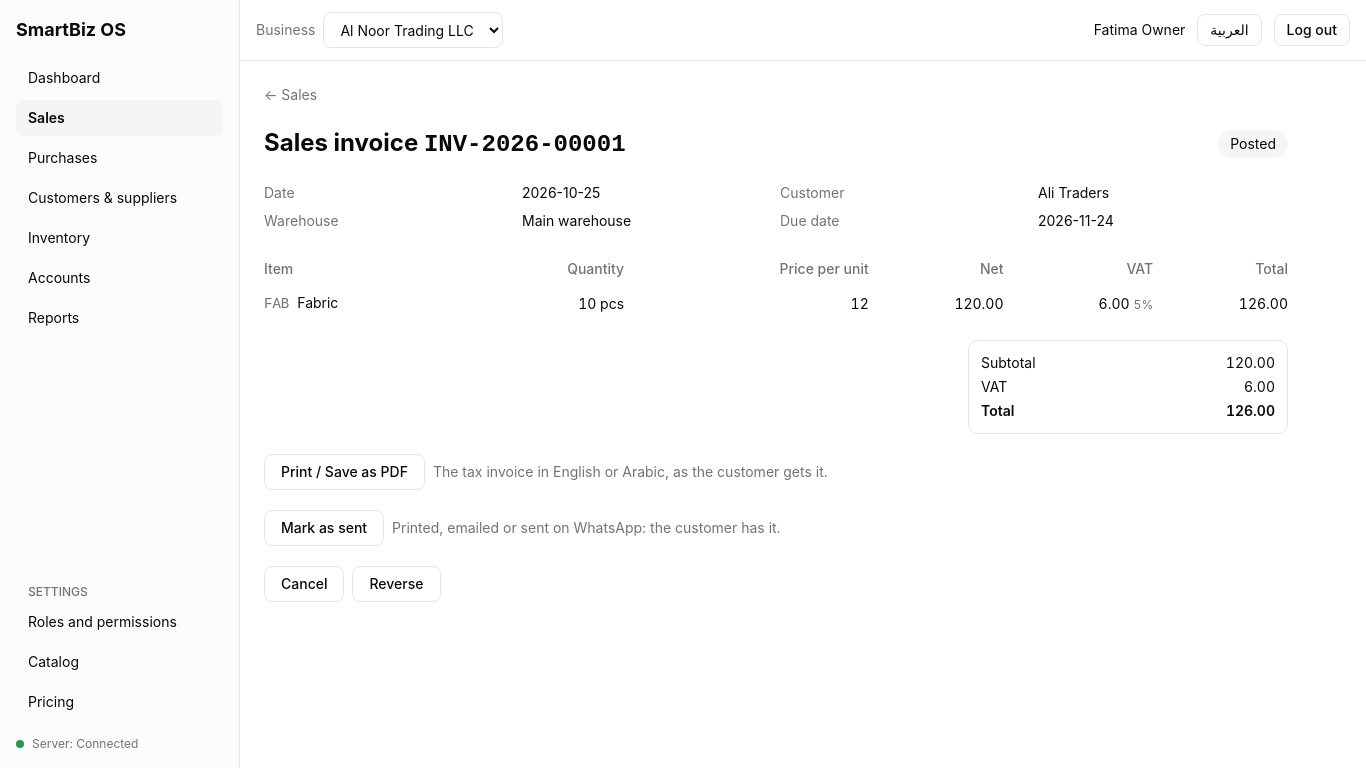
Test case: Sales screens › marks a posted invoice as sent
Click the button "Mark as sent": [324, 528] box left=264, top=510, right=384, bottom=546
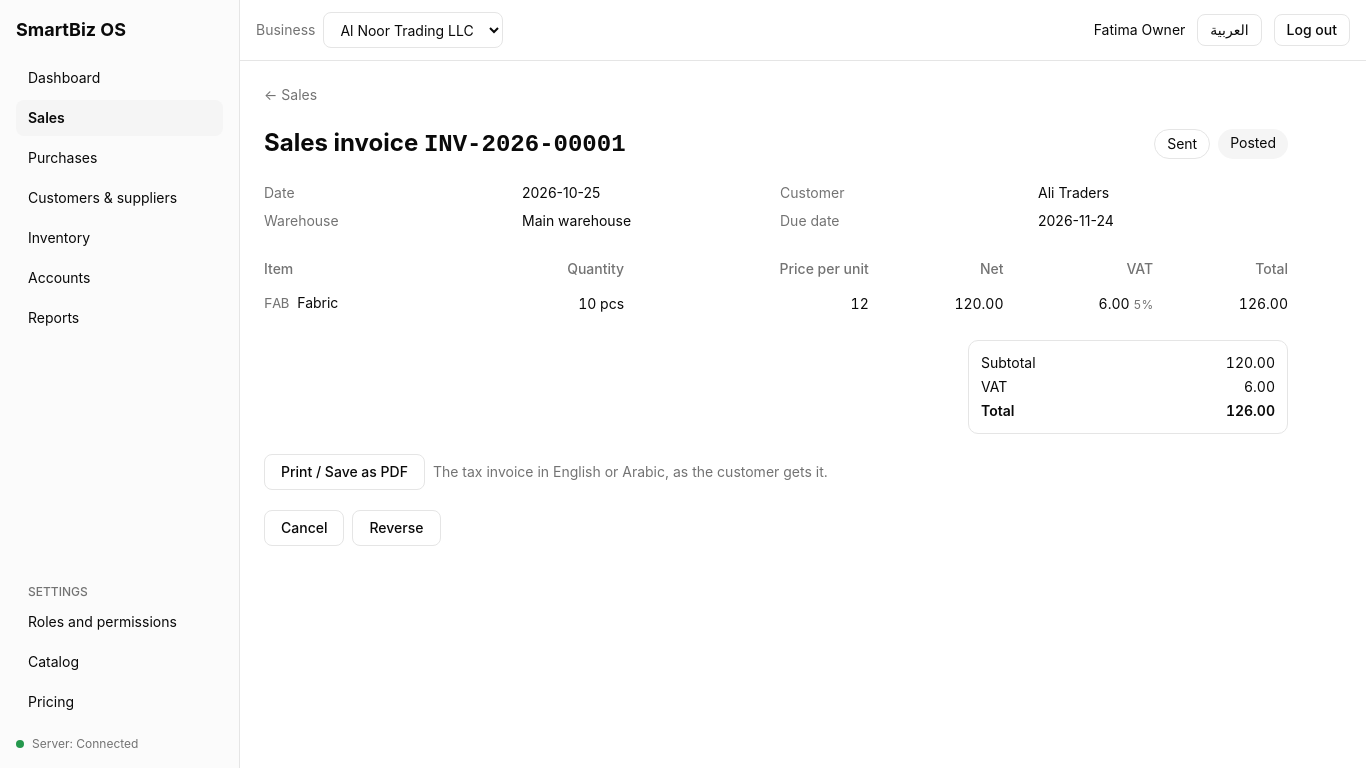
Expected: the text "Sent" is shown, left=1154, top=129, right=1210, bottom=159
Expected: the button "Mark as sent" is gone
